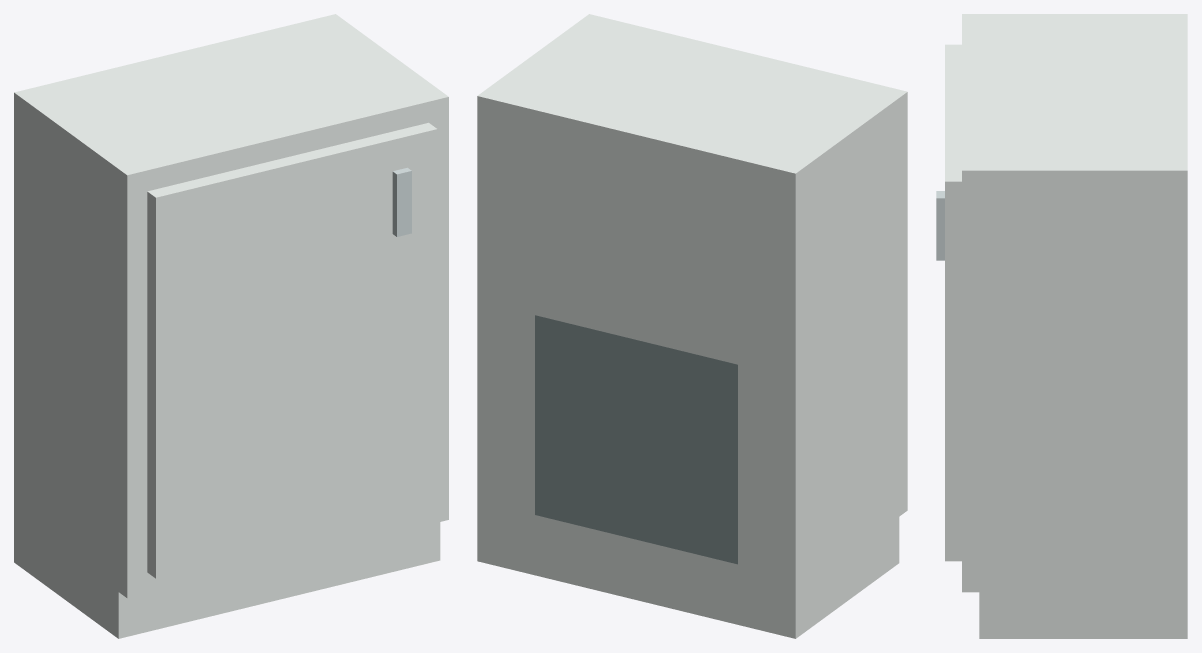
The model's file is kitchenFridgeSmall.glb.
3 views of the same model, side by side, from view 1: azimuth 30°, elevation 25°; view 2: azimuth 150°, elevation 25°; view 3: azimuth 270°, elevation 25° (orthographic).
Parts seen in each view (by area): view 1: kitchenFridgeSmall(Clone), doorFridge; view 2: kitchenFridgeSmall(Clone); view 3: kitchenFridgeSmall(Clone), doorFridge.
Part boxes in pixels (x1,y1,x2,y2): kitchenFridgeSmall(Clone): [14, 14, 448, 638]; doorFridge: [147, 122, 437, 578]; kitchenFridgeSmall(Clone): [477, 14, 907, 638]; kitchenFridgeSmall(Clone): [962, 14, 1187, 638]; doorFridge: [936, 44, 961, 561].
Size of the model in its own units: 0.8729 by 1.22 by 0.5926.
Materials: 4 (4 with a texture image).
